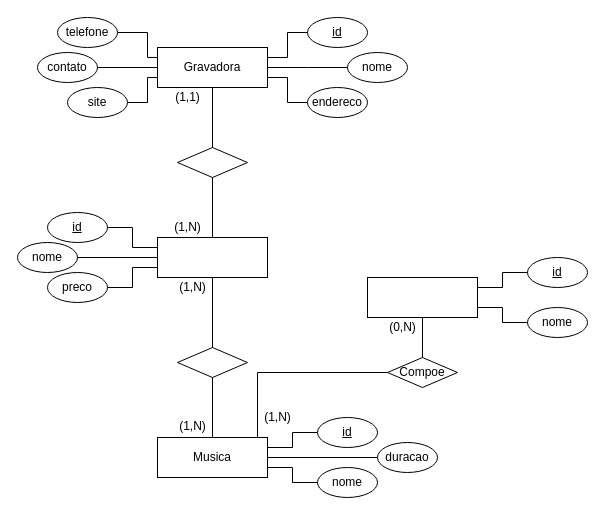
Image size: 605x515. Some labels were removed from this diagram. Here are the shapes that lost their labels. From the top down, the centre of each, then its label:
At point 212,162: "Produz".
At point 212,257: "CD".
At point 422,297: "Autor".
At point 212,362: "Tem".
